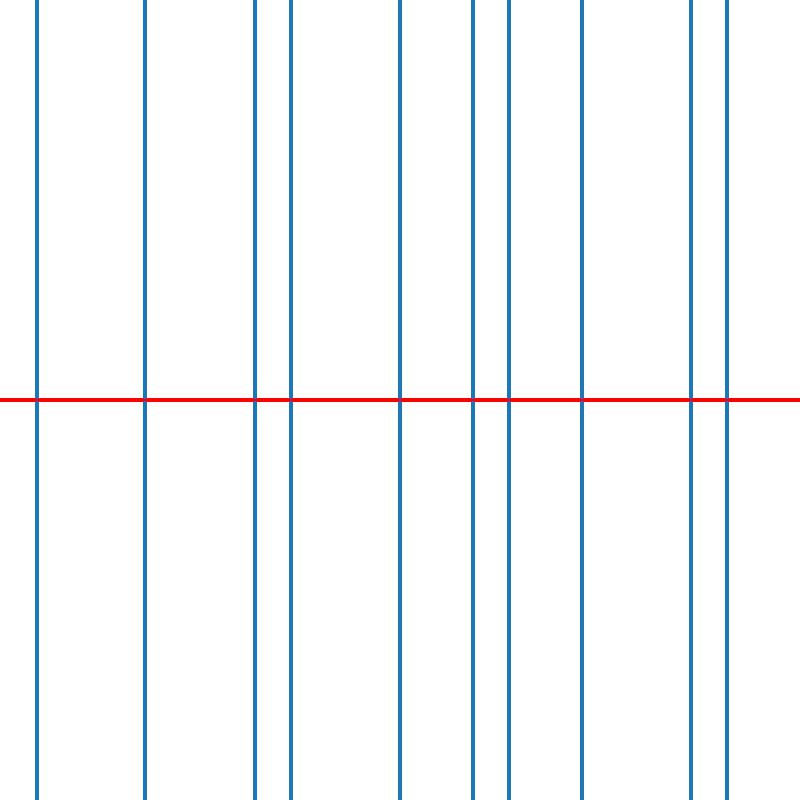root: (32, 396, 40, 404), (141, 396, 149, 404), (250, 396, 258, 404), (578, 396, 585, 404), (469, 396, 476, 404), (505, 396, 512, 404), (396, 396, 403, 404), (723, 396, 730, 404), (687, 396, 694, 404), (287, 396, 294, 404)
